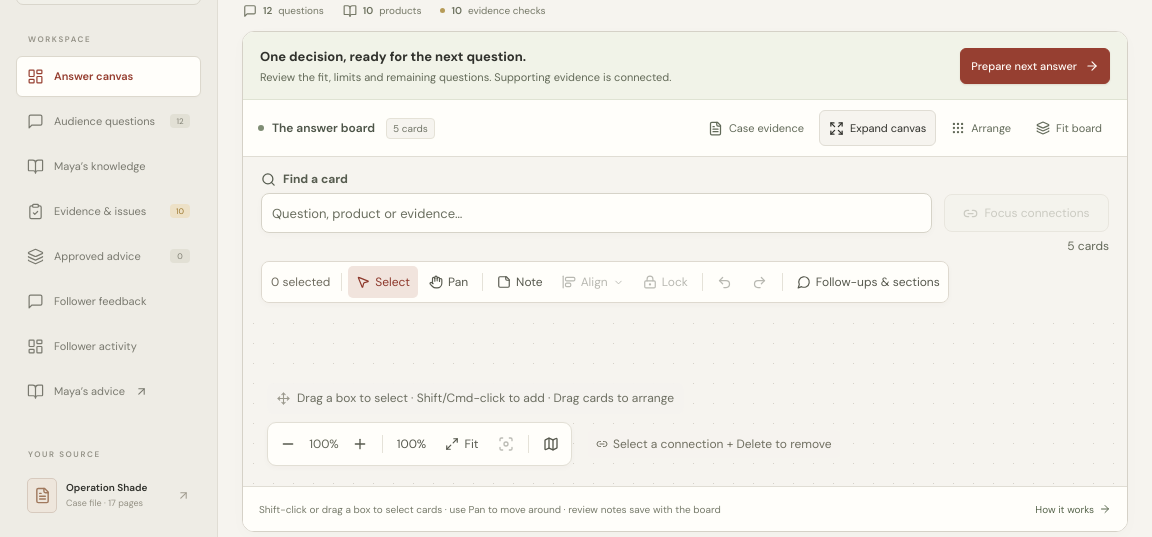
Test: GoodCall recovery and publication journey › keeps feedback available for retry if the audience question cannot be persisted
Click the button "Follower feedback". click: point(108, 301)
box: [16,281,201,322]
(page scrolled)
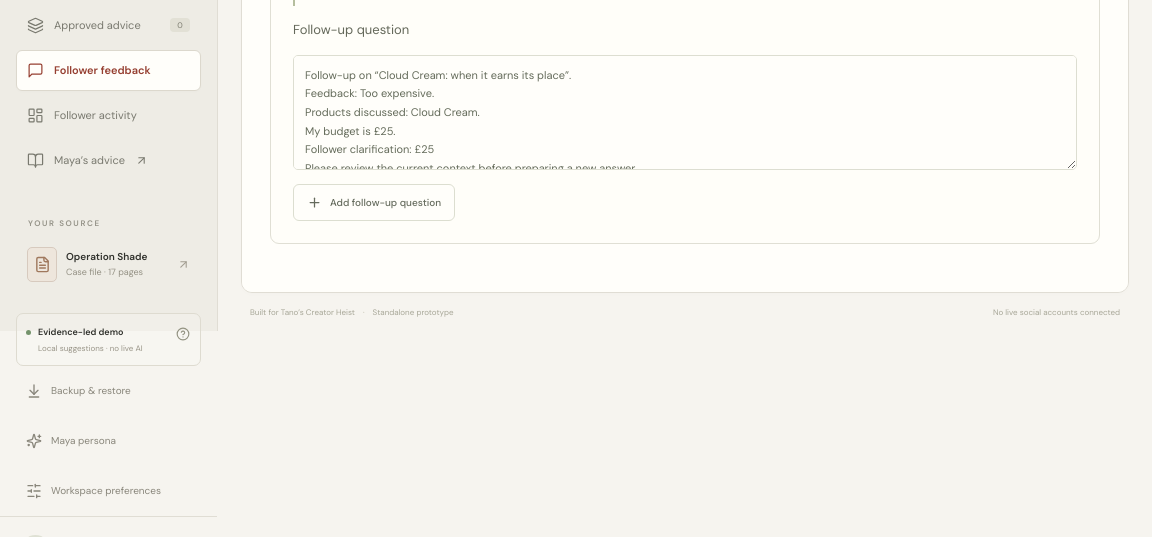
Click the button "Add follow-up question". click: point(374, 203)
box: [293,184,455,221]
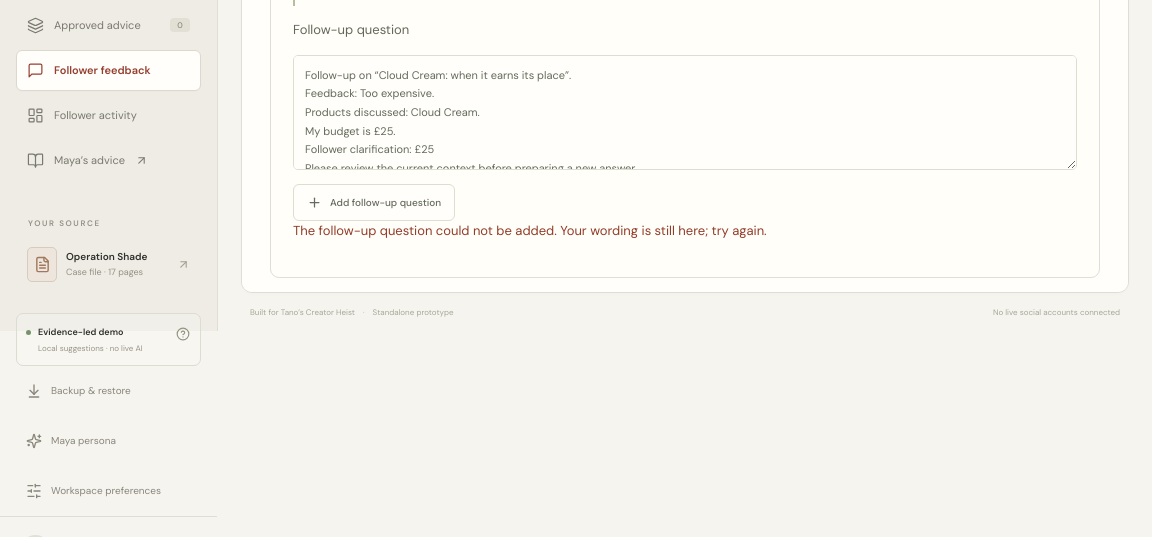
Check: the button "Add follow-up question" is enabled, box [293,184,455,221]
Check: the message shows "could not be added", box [293,222,767,239]
